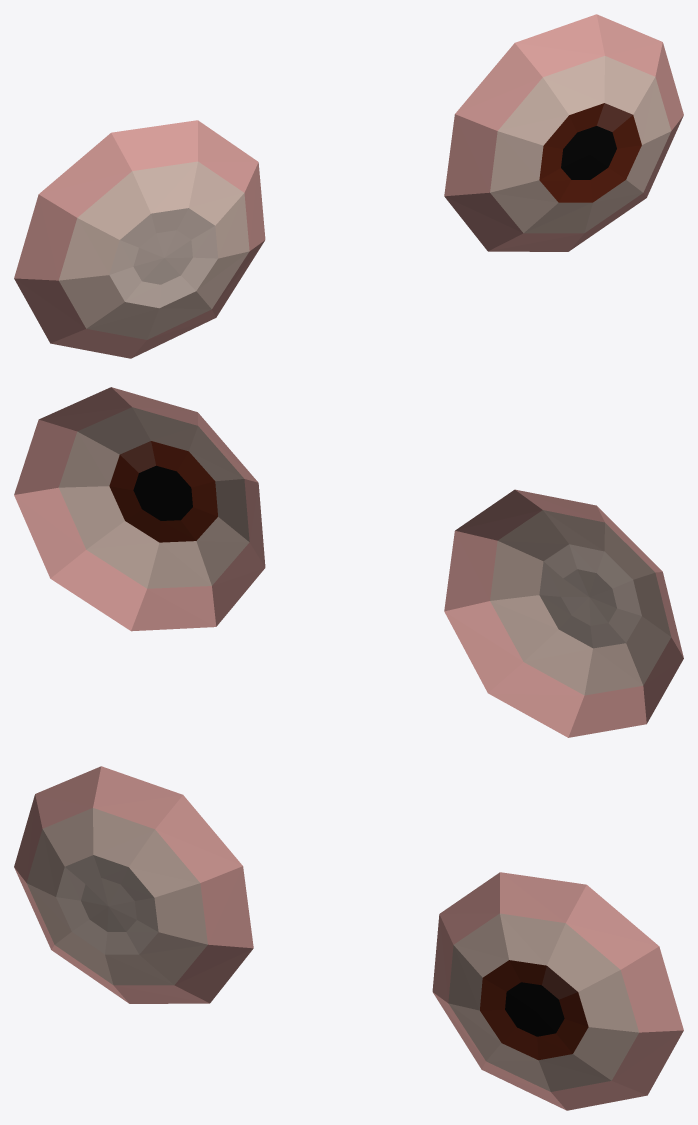
The model's file is eyesRedAndBlind.glb.
The picture shows the model from 3 angles, top to bottom: view 1: azimuth 30°, elevation 25°; view 2: azimuth 150°, elevation 25°; view 3: azimuth 330°, elevation 25°; orthographic projection.
Visible parts, largest first — view 1: eyesRedAndBlind; view 2: eyesRedAndBlind; view 3: eyesRedAndBlind.
Boxes of the visible parts, <box> form: eyesRedAndBlind: <box>14,14,683,358</box>; eyesRedAndBlind: <box>14,387,683,737</box>; eyesRedAndBlind: <box>14,766,683,1110</box>.
Size of the model in its own units: 0.1488 by 0.0499 by 0.0119.
